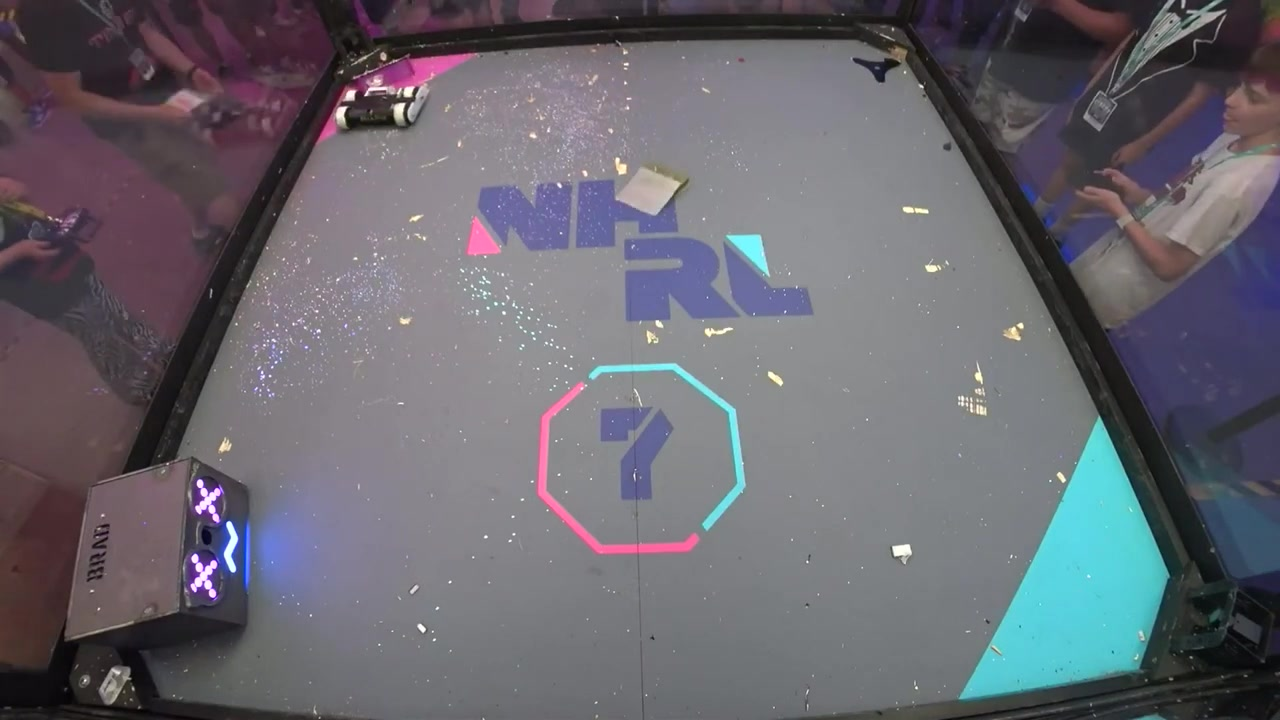combatbot: (334, 80, 435, 131)
debris: (848, 51, 908, 87), (888, 541, 915, 565), (940, 141, 956, 155)
housebot: (61, 454, 254, 647)
minibot: (611, 162, 694, 220)
